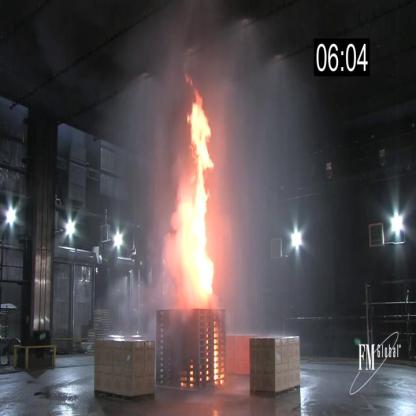fire: (175, 69, 218, 309)
